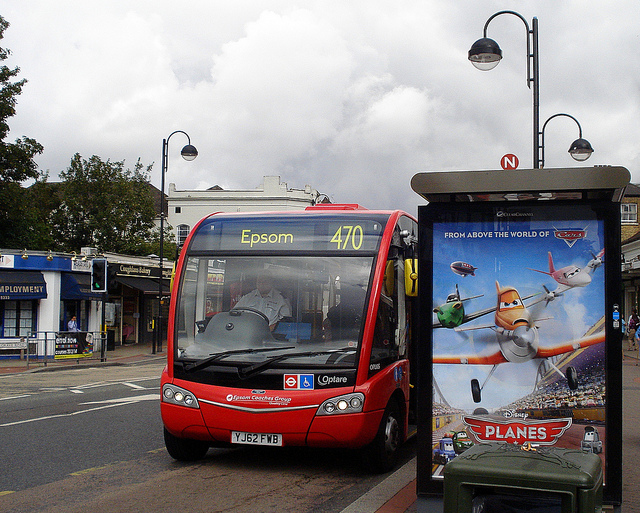Bus: (167, 210, 417, 458)
